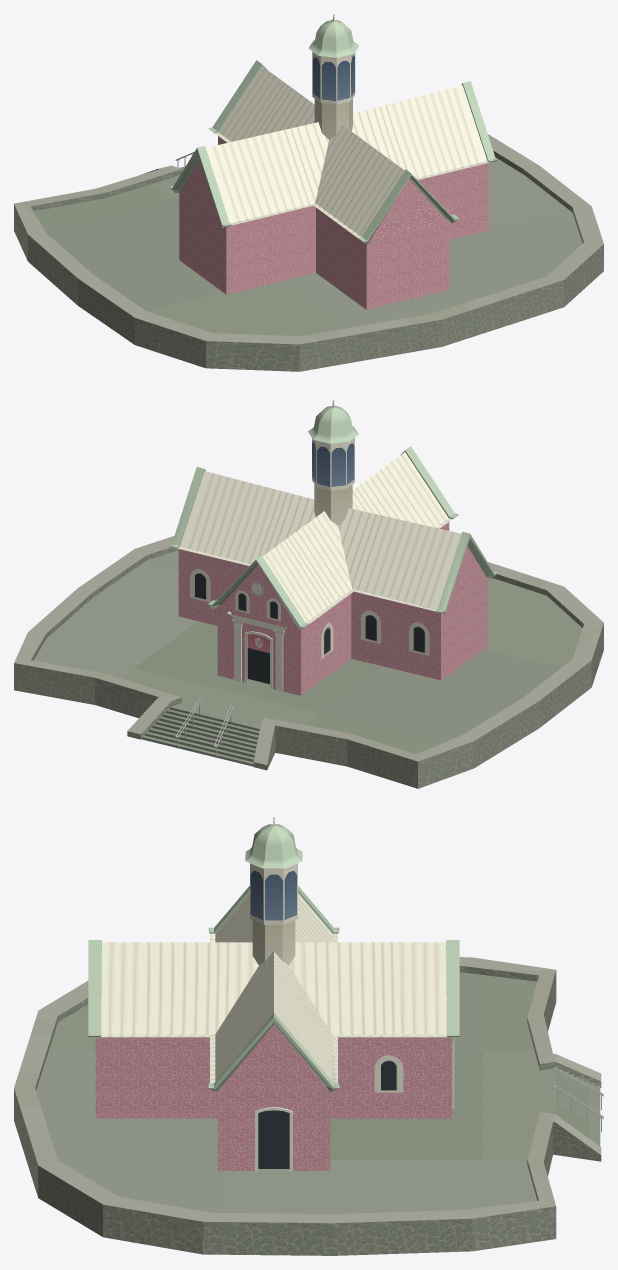
Rendered from Eglise.fbx.
The picture shows the model from 3 angles, top to bottom: view 1: azimuth 30°, elevation 25°; view 2: azimuth 150°, elevation 25°; view 3: azimuth 270°, elevation 25°; orthographic projection. The views are drawn at different scales.
Visible parts, largest first — view 1: Eglise.001, Plane.007, Eglise.002, Plane.003, Plane.012; view 2: Plane.007, Eglise.001, Eglise.002, Plane.003, Plane.012, Plane.049, intérieurEglise; view 3: Plane.007, Eglise.001, Eglise.002, Plane.003, Plane.012, intérieurEglise, Plane.049, Eglise.004.
Boxes of the visible parts, x1,y1,x2,y2 form: Eglise.001: (170, 14, 497, 243); Plane.007: (34, 157, 582, 336); Eglise.002: (179, 136, 488, 309); Plane.003: (14, 150, 603, 371); Plane.012: (14, 134, 603, 344); Plane.007: (34, 550, 582, 766); Eglise.001: (170, 400, 496, 691); Eglise.002: (178, 522, 487, 695); Plane.003: (14, 547, 603, 788); Plane.012: (14, 536, 603, 764); Plane.049: (190, 568, 429, 658); intérieurEglise: (247, 648, 269, 684); Plane.007: (36, 972, 600, 1213); Eglise.001: (88, 817, 459, 1108); Eglise.002: (95, 1025, 452, 1170); Plane.003: (14, 966, 601, 1255); Plane.012: (14, 957, 601, 1223); intérieurEglise: (258, 1110, 289, 1168); Plane.049: (374, 1055, 403, 1092); Eglise.004: (255, 1107, 292, 1171).
Size of the model in its own units: 7262 by 3802 by 6698.
